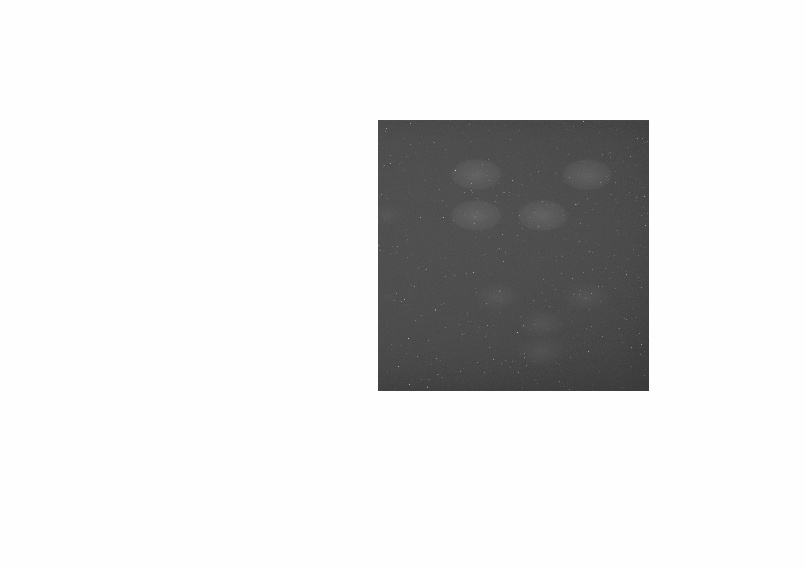cluster: (451, 157, 613, 233), (482, 283, 601, 360)
